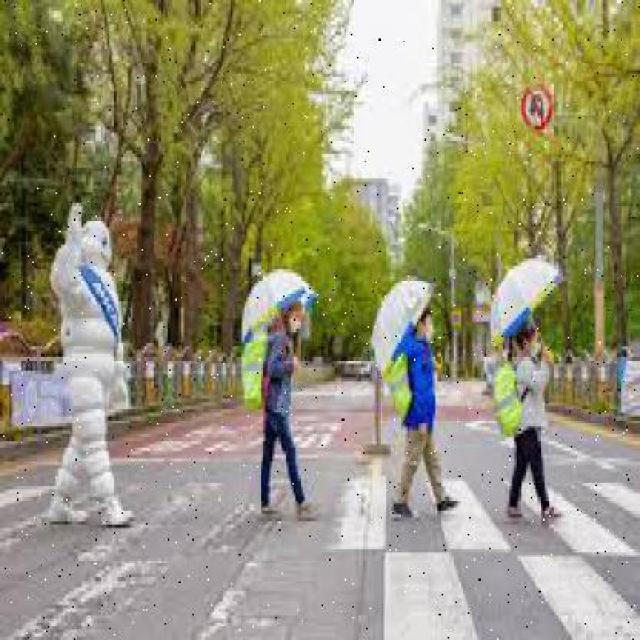Person: (392, 310, 458, 518), (259, 298, 318, 522), (506, 324, 562, 522)
